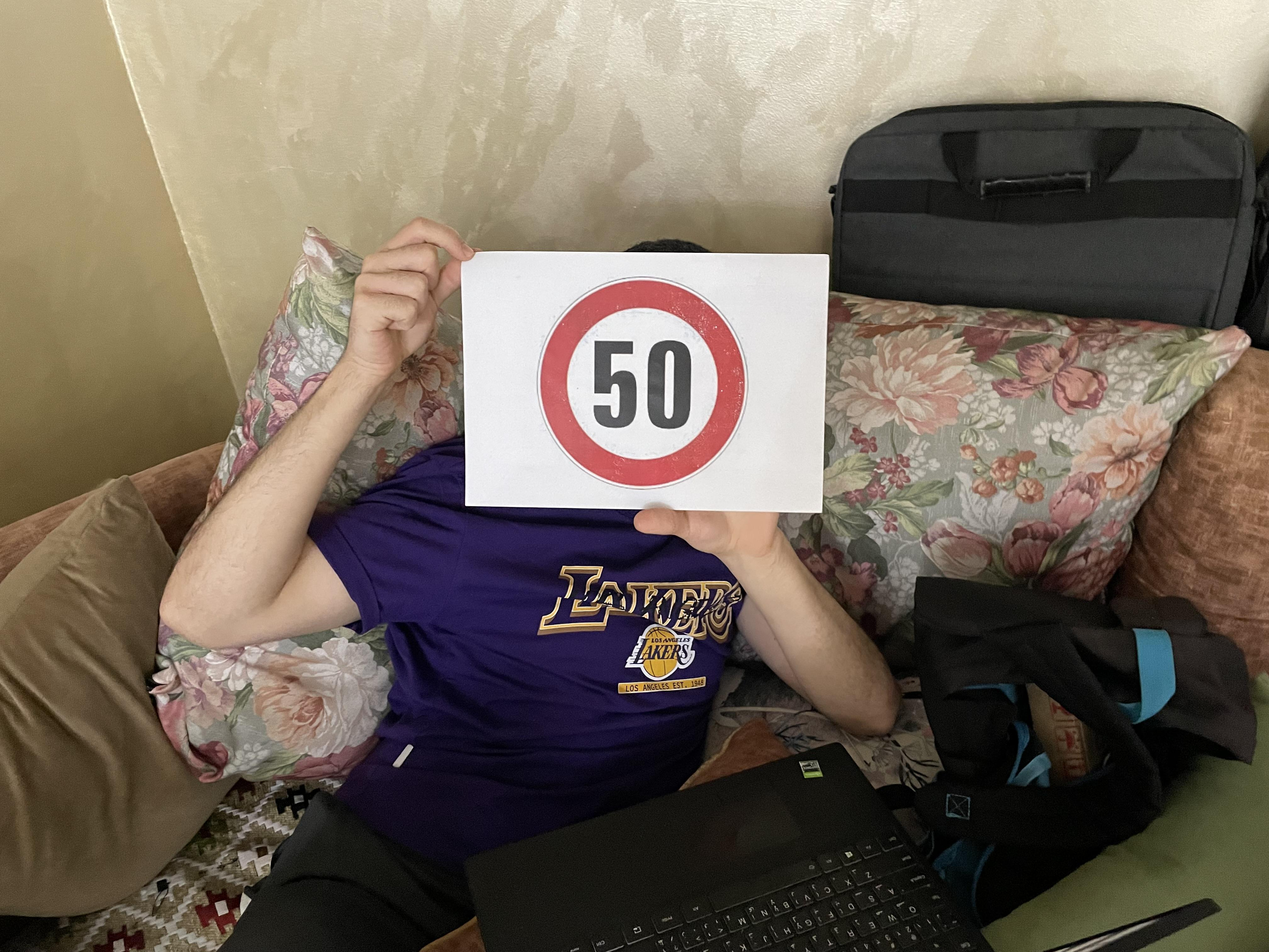50-Speed: (540, 273, 750, 491)
